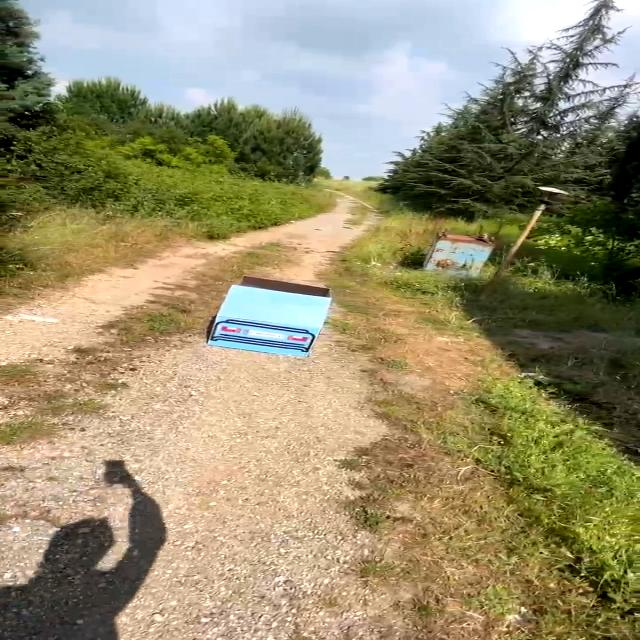blue_car: (192, 270, 343, 356)
